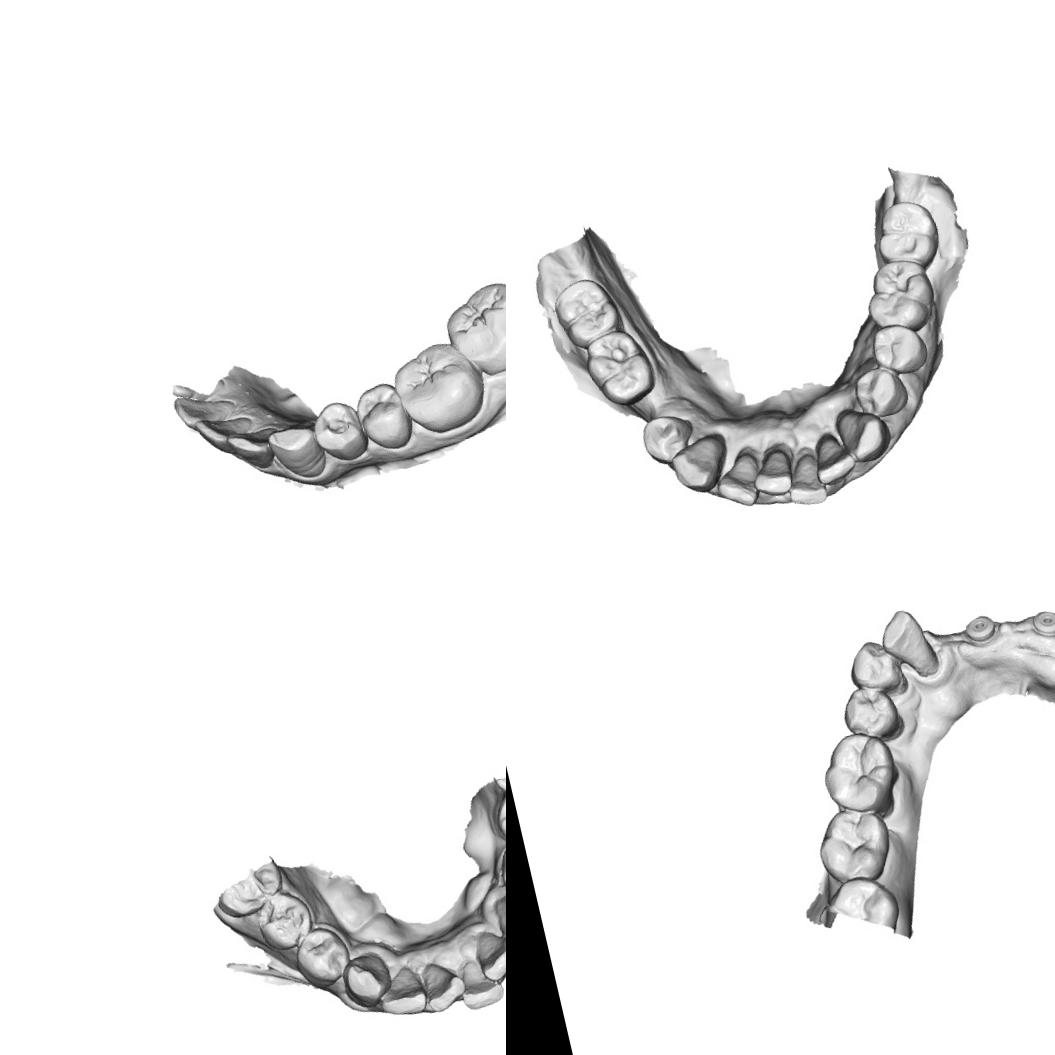canine: (876, 602, 943, 686), (666, 430, 736, 500), (830, 400, 896, 469), (266, 420, 330, 486), (336, 947, 395, 1011), (485, 886, 506, 951)
implant: (962, 611, 1001, 648), (1026, 606, 1055, 641)
incisor: (370, 960, 433, 1023), (708, 448, 768, 514), (414, 954, 472, 1017), (170, 384, 239, 435), (452, 950, 506, 1015), (223, 422, 285, 476), (806, 428, 860, 490), (192, 406, 256, 454), (780, 450, 830, 511), (747, 446, 799, 501), (469, 923, 506, 987)
molar: (387, 333, 494, 442), (812, 725, 907, 828), (810, 800, 898, 889), (576, 320, 660, 413), (857, 253, 943, 342), (437, 274, 506, 384), (548, 272, 628, 354), (868, 193, 946, 273)
premolar: (349, 376, 418, 458), (836, 679, 909, 751), (841, 633, 911, 705), (250, 885, 318, 956), (306, 394, 371, 468), (288, 920, 354, 992), (867, 317, 932, 381), (848, 361, 912, 424), (636, 408, 699, 468), (489, 785, 506, 852), (491, 836, 506, 903)
